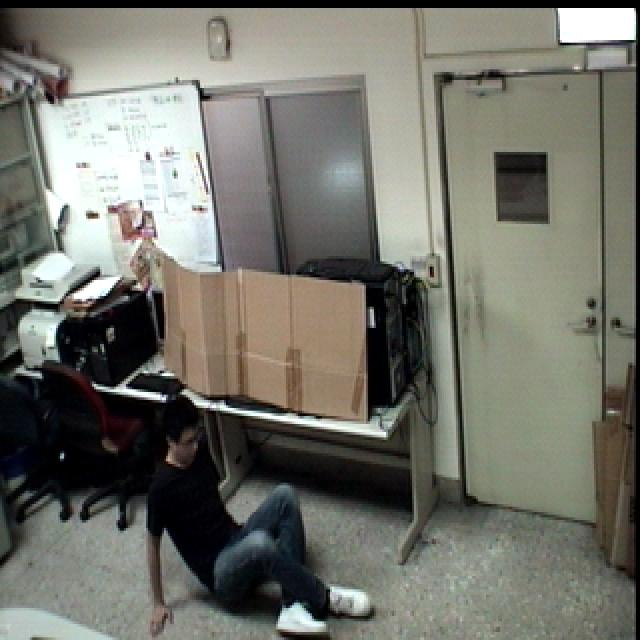sit: (141, 388, 380, 640)
